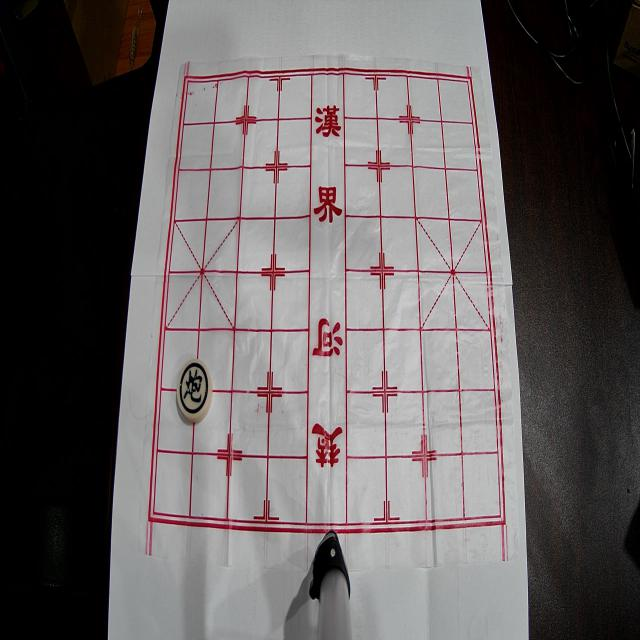black-cannon: (176, 358, 212, 422)
